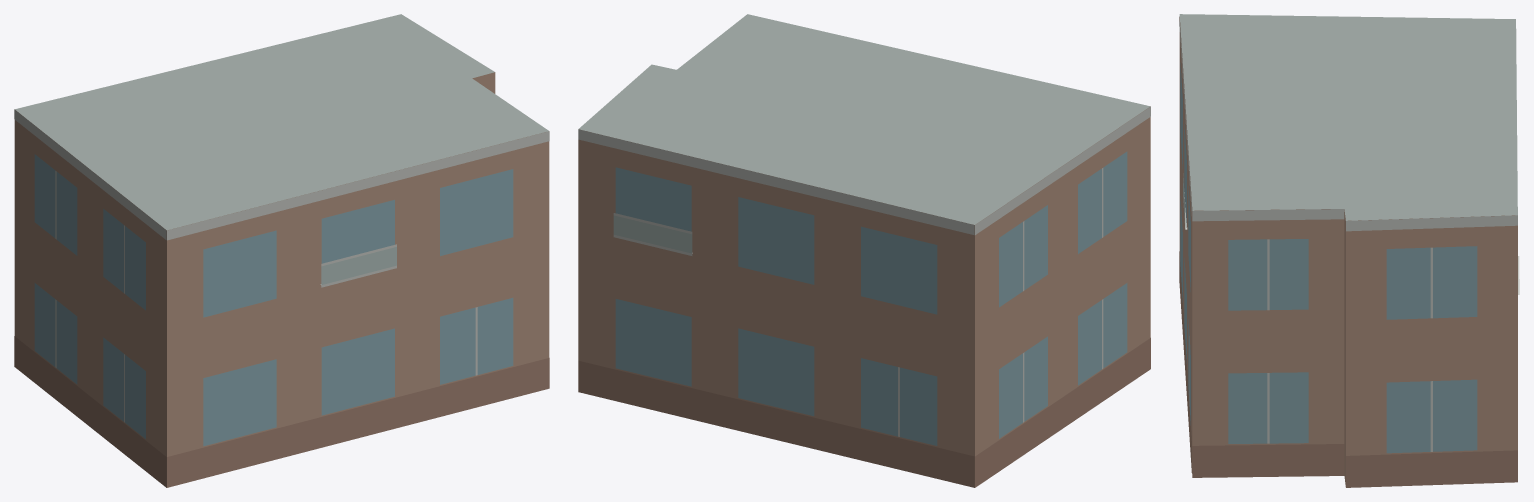
File: survey-upis-32604060.glb
3 views of the same model, side by side, from view 1: azimuth 30°, elevation 25°; view 2: azimuth 150°, elevation 25°; view 3: azimuth 270°, elevation 25° (orthographic). The views are drawn at different scales.
Parts seen in each view (by area): view 1: survey-upis-32604060.tmp; view 2: survey-upis-32604060.tmp; view 3: survey-upis-32604060.tmp.
Boxes of the visible parts, x1=… form: survey-upis-32604060.tmp: x1=14, y1=14, x2=549, y2=487; survey-upis-32604060.tmp: x1=578, y1=14, x2=1150, y2=487; survey-upis-32604060.tmp: x1=1179, y1=14, x2=1519, y2=487.
Bounding box in the file's own units: 10.31 × 6.2 × 7.16.
